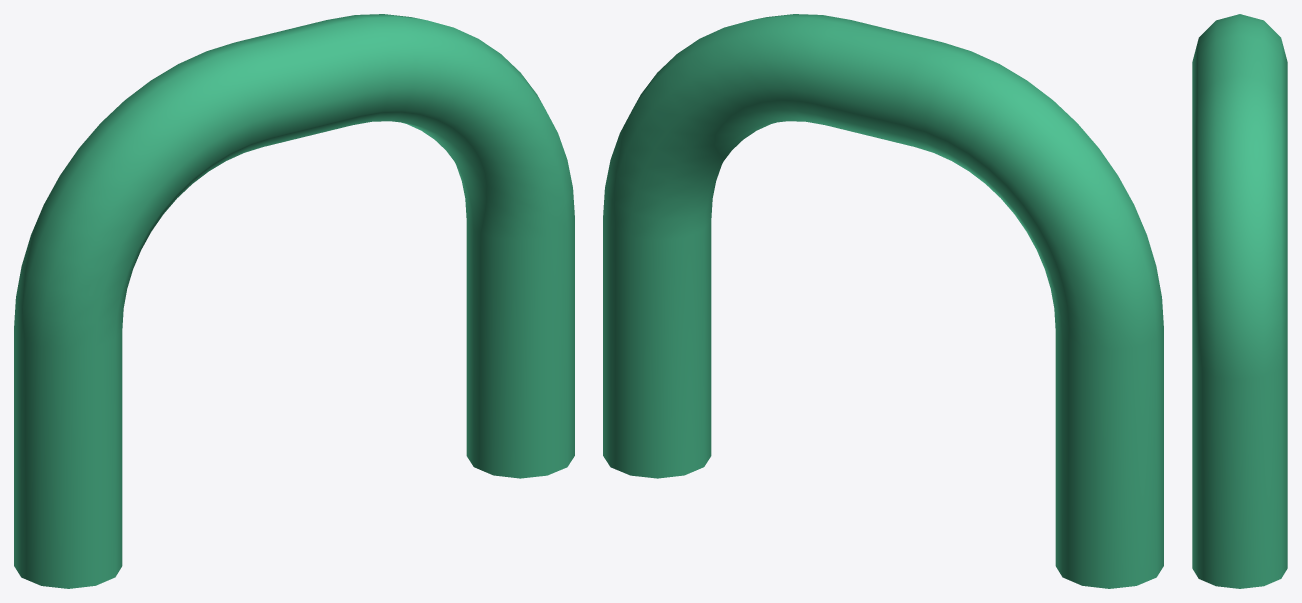
File: gateSmall_teamGreen.gltf.glb
3 renders of one model, left to right at view 1: azimuth 30°, elevation 25°; view 2: azimuth 150°, elevation 25°; view 3: azimuth 270°, elevation 25°, orthographic. The views are drawn at different scales.
Parts seen in each view (by area): view 1: gateSmall_teamBlue; view 2: gateSmall_teamBlue; view 3: gateSmall_teamBlue.
Boxes of the visible parts, left/top/right/bottom form: gateSmall_teamBlue: left=14, top=14, right=574, bottom=588; gateSmall_teamBlue: left=603, top=14, right=1163, bottom=588; gateSmall_teamBlue: left=1192, top=14, right=1287, bottom=588.
Size of the model in its own units: 2.4 by 2 by 0.4126.
